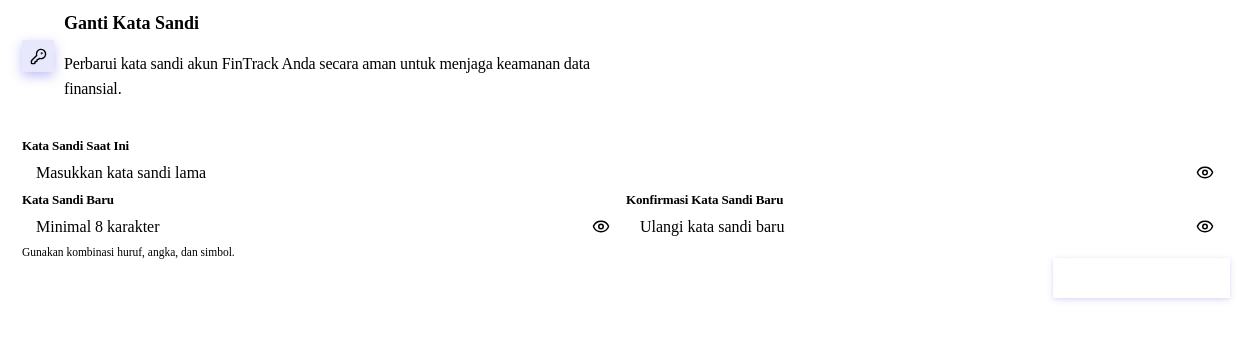
it: ChangePasswordCard Component › validates new password min length on client side
Type "OldPassword123!" into the password field labelled "Kata Sandi Saat Ini" at [626, 173], box x1=22 y1=154 x2=1230 y2=192
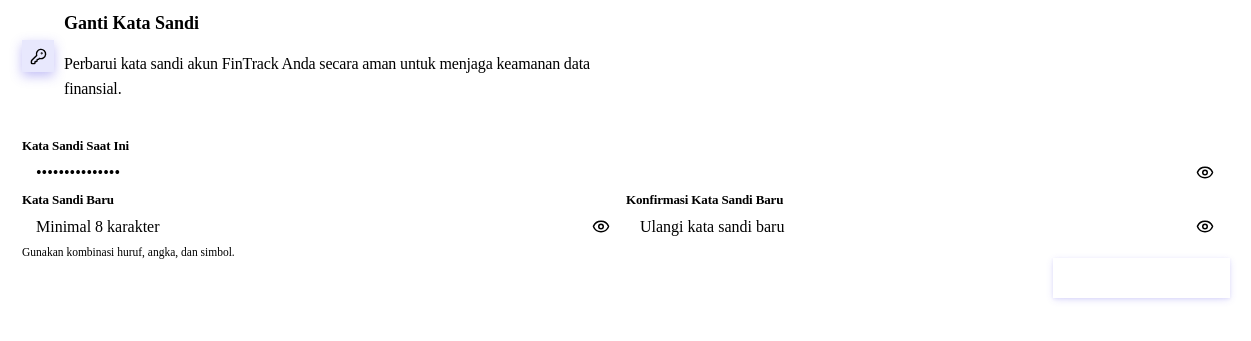
Type "short" into the password field labelled "Kata Sandi Baru" at [324, 227], box x1=22 y1=208 x2=626 y2=246
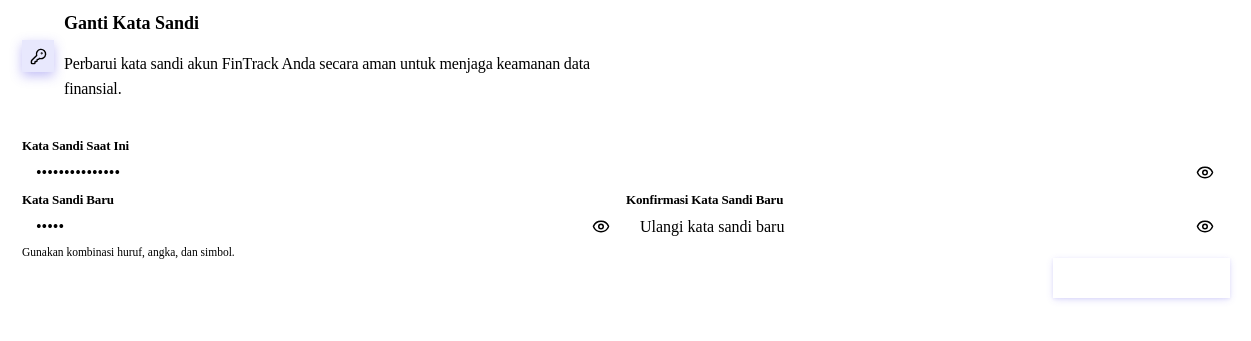
Type "short" into the password field labelled "Konfirmasi Kata Sandi Baru" at [928, 227], box x1=626 y1=208 x2=1230 y2=246
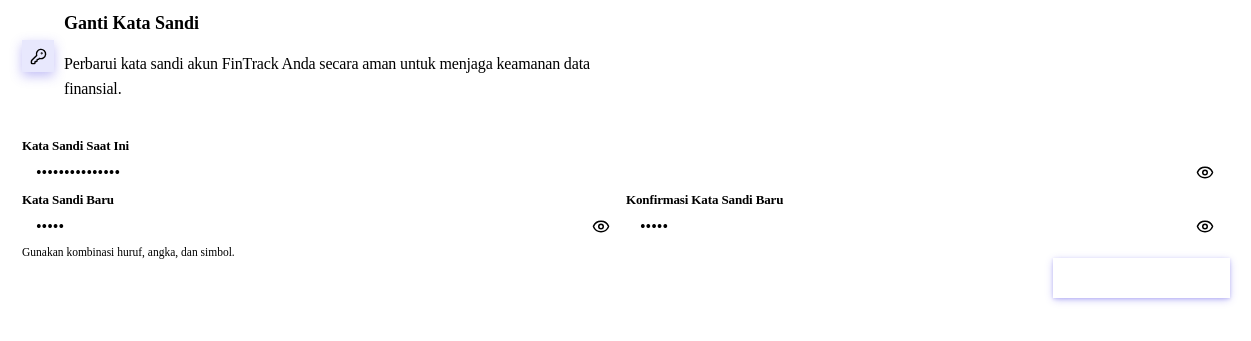
Click the button "Perbarui Kata Sandi" at [1141, 278], box x1=1053 y1=258 x2=1230 y2=298
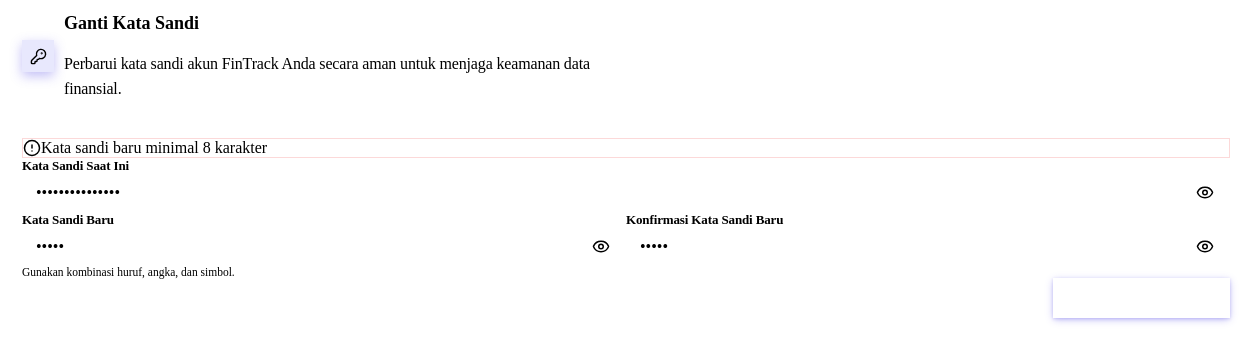
Now the text "Kata sandi baru minimal 8 karakter" is shown, box x1=41 y1=139 x2=267 y2=157
